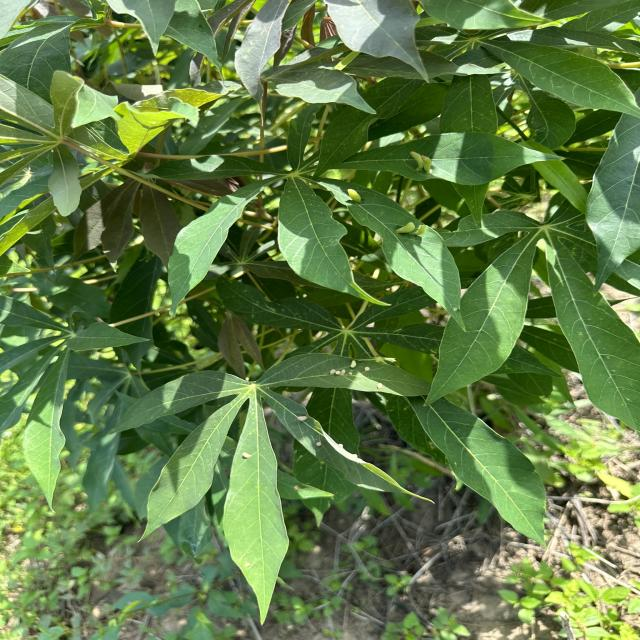Mosca: (396, 207, 445, 253), (328, 361, 373, 385), (334, 184, 380, 206), (227, 439, 251, 470)
